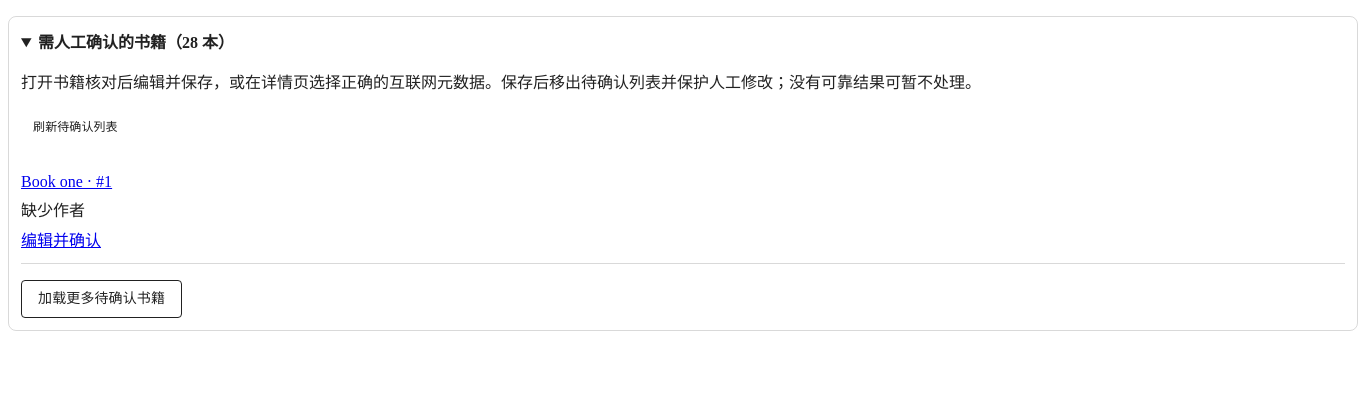
Scenario: metadata manual review › loads on expansion, shows reasons and opens books in new tabs; cursor paging deduplicates
This screenshot has width=1366, height=413.
Expected: the button "刷新待确认列表" is shown, 21,109 -> 130,145
Expected: the element that starts with "需人工确认的书籍（28 本）" shows "缺少作者", 21,202 -> 85,219
Click the button "加载更多待确认书籍": click(102, 299) 21,280 -> 182,318
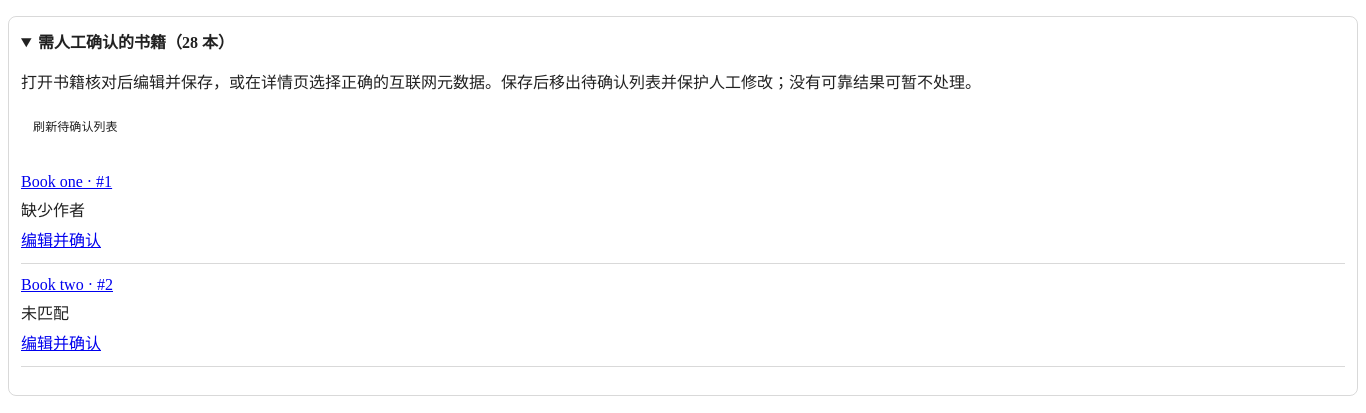
Expected: the number of buttons is 1, 21,109 -> 130,145
Expected: the number of list items is 2, 21,161 -> 1345,264; 21,264 -> 1345,367
